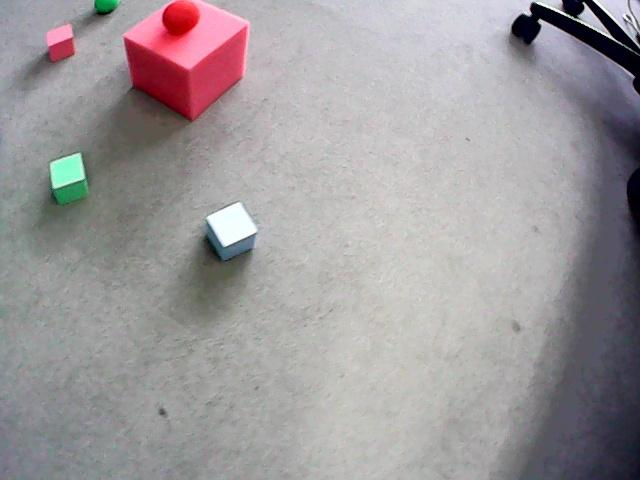blue_block: (206, 202, 258, 261)
red_block: (123, 0, 248, 120), (46, 24, 74, 61)
